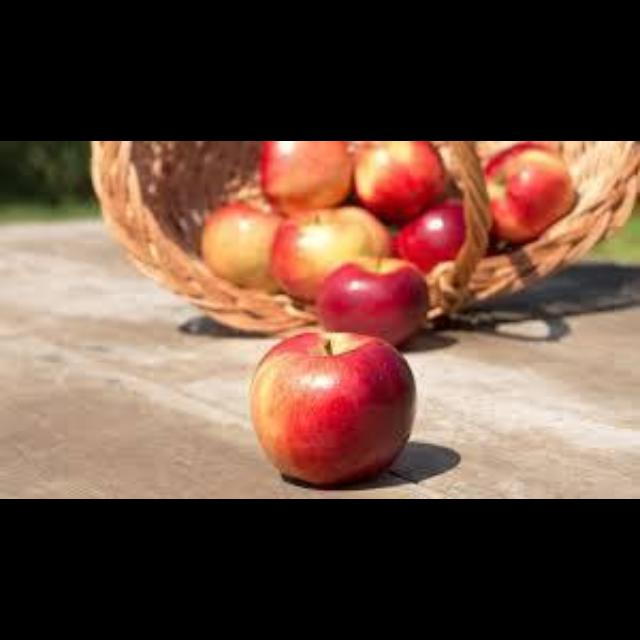apple: (250, 333, 414, 484), (269, 207, 390, 301), (316, 256, 427, 344), (484, 143, 574, 241), (354, 141, 444, 222), (201, 203, 279, 290), (260, 141, 352, 214), (393, 201, 463, 271)
